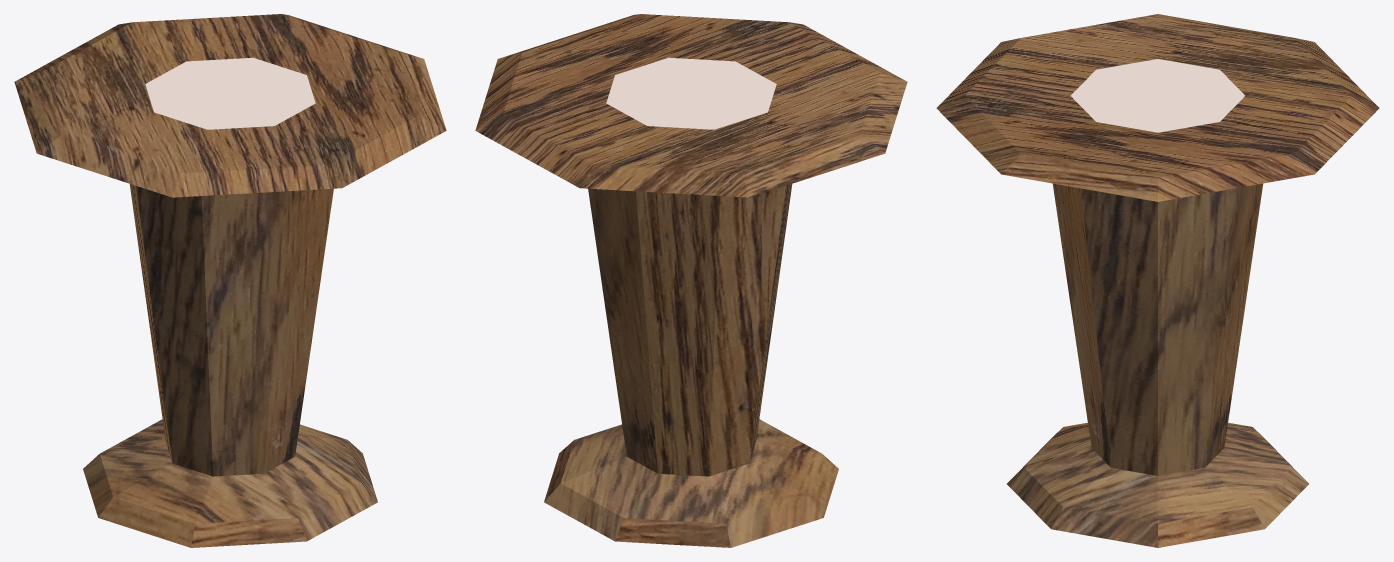
3 renders of one model, left to right at view 1: azimuth 30°, elevation 25°; view 2: azimuth 150°, elevation 25°; view 3: azimuth 270°, elevation 25°, orthographic.
Visible parts, largest first — view 1: Cylinder, Cylinder.002; view 2: Cylinder, Cylinder.002; view 3: Cylinder, Cylinder.002.
Part boxes in pixels (left/top/right/bottom): Cylinder: left=14, top=14, right=446, bottom=547; Cylinder.002: left=145, top=57, right=315, bottom=129; Cylinder: left=475, top=14, right=907, bottom=547; Cylinder.002: left=606, top=57, right=776, bottom=129; Cylinder: left=936, top=14, right=1379, bottom=547; Cylinder.002: left=1071, top=59, right=1244, bottom=132.
Size of the model in its own units: 331 by 319 by 331.
3 materials, 1 textured.
